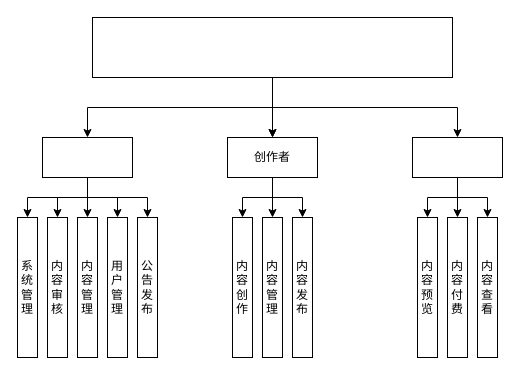
Some shapes in this 520 by 375 pixel diagram are drawn without their labels. The box of each missing label's shape, as (x1, y1, x2, y2) in pixels:
基于Spring Boot和Vue的知识付费与在线教育平台: (92, 16, 452, 78)
消费者: (412, 136, 502, 178)
管理员: (42, 136, 132, 178)
